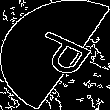P_SE: (16, 26, 94, 84)
